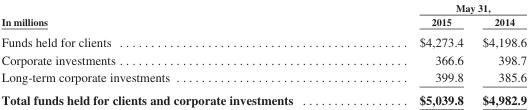table: (0, 1, 525, 106)
table column: (0, 1, 355, 106), (355, 1, 472, 106), (472, 1, 525, 106)
table column header: (0, 1, 525, 30)
table row: (0, 30, 525, 50), (0, 68, 525, 88), (0, 50, 525, 68), (0, 88, 525, 106), (0, 13, 525, 30), (0, 1, 525, 13)
table spanning cell: (0, 1, 355, 30), (355, 1, 525, 13)
